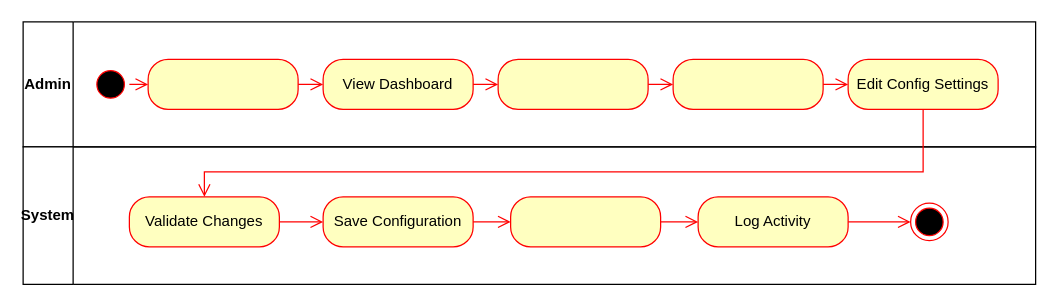
The diagram is 1058 pixels wide and 308 high, and some of its shapes have lost their labels. The shapes that lost their labels are listed below. From the top down, each one's centre as x and y in pixels, then its label:
pixel 222 83: Login
pixel 572 83: Access Config Panel
pixel 747 83: Select Config Category
pixel 585 221: Apply Changes
